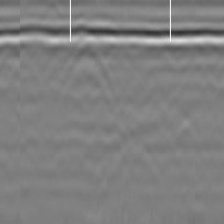Utility: (64, 38, 117, 104)
